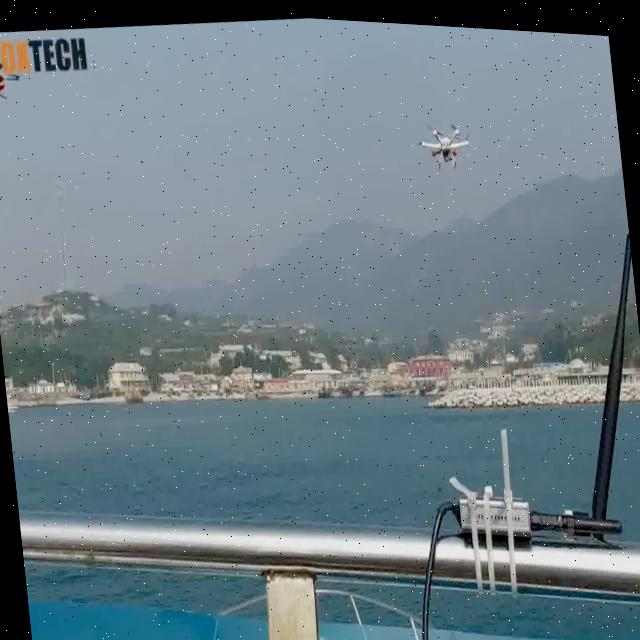drone: (411, 98, 482, 175)
